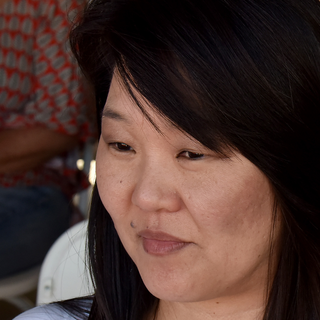eye: (169, 142, 221, 168), (100, 134, 140, 160)
